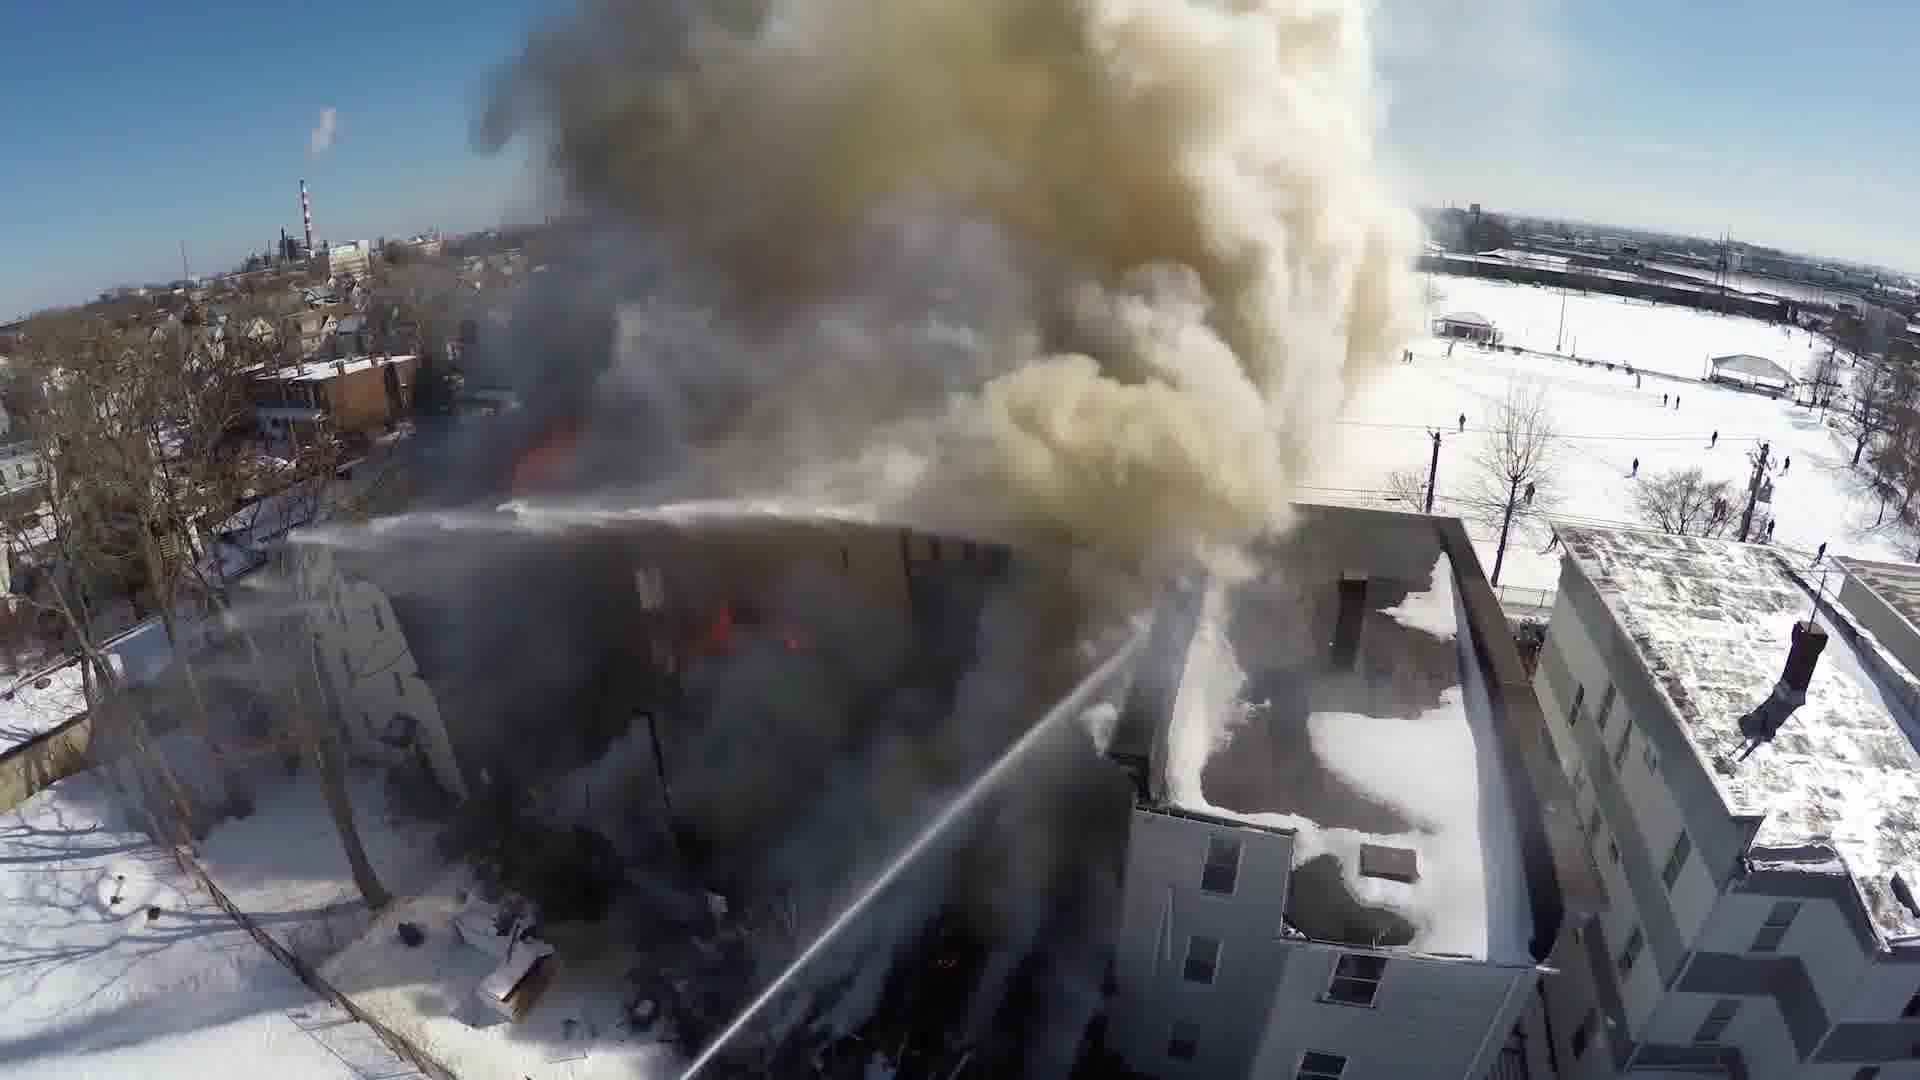fire: (516, 3, 1465, 522)
